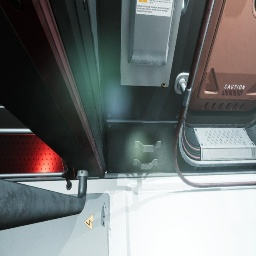SafetySwitchPanel ,: (120, 0, 189, 88)
